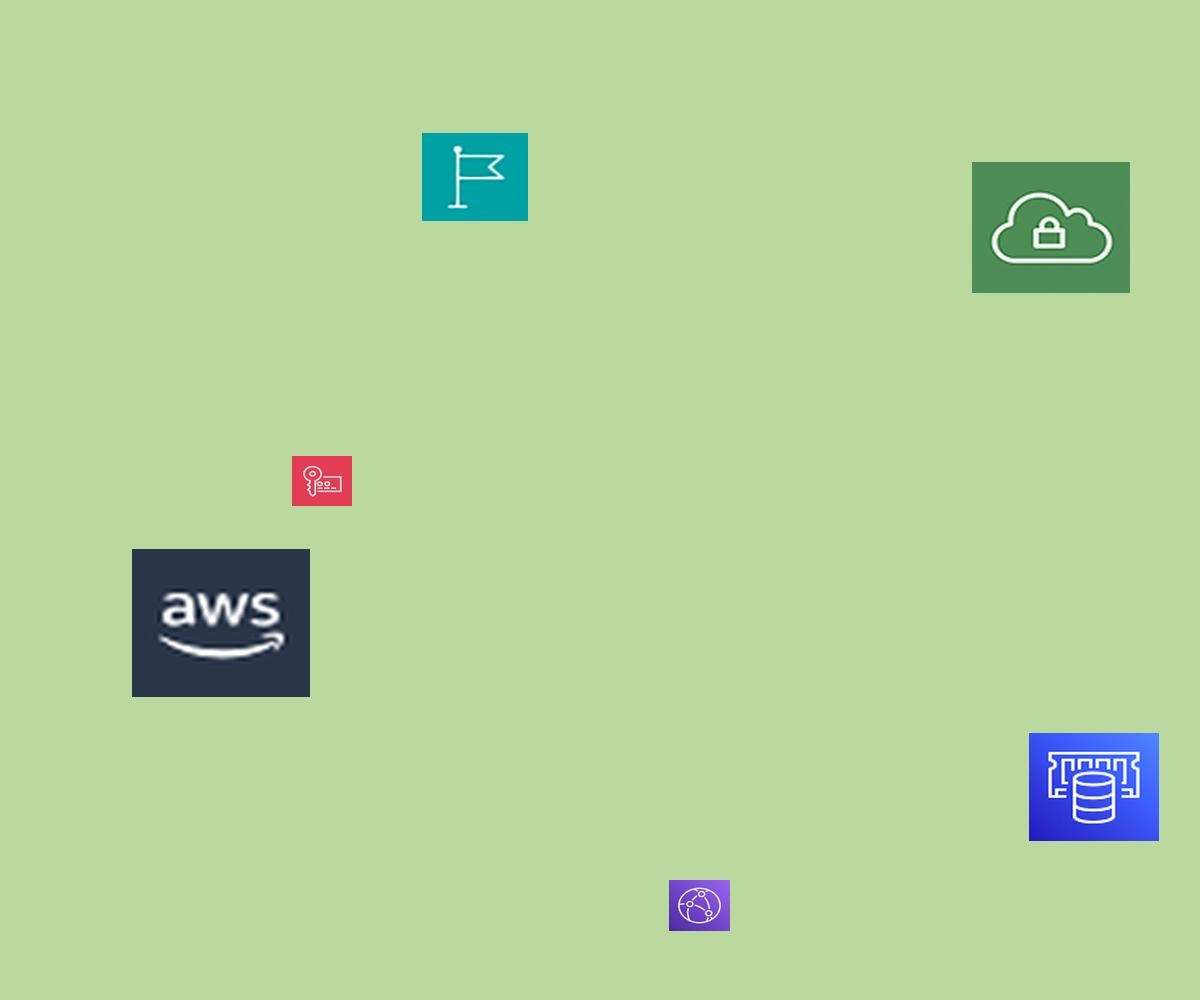AWS-Cloud-logo: (132, 549, 310, 697)
AWS-CloudFront: (669, 880, 730, 931)
AWS-ElastiCache: (1029, 733, 1159, 841)
AWS-Key-Management-Service: (292, 456, 352, 506)
AWS-Private_vpc: (972, 162, 1130, 293)
AWS-Region: (422, 133, 528, 221)
